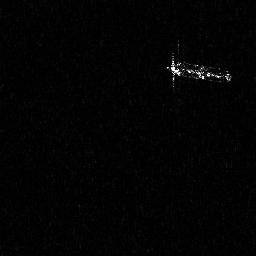ship: (165, 55, 234, 88)
